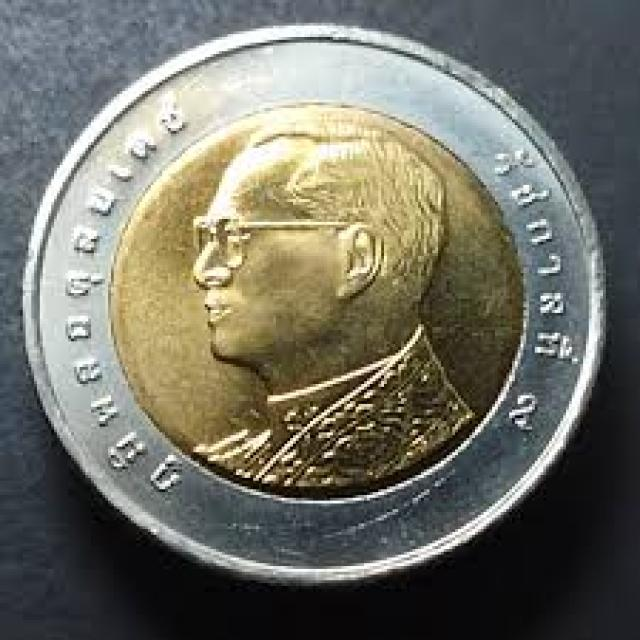10 Bath: (22, 22, 612, 595)
